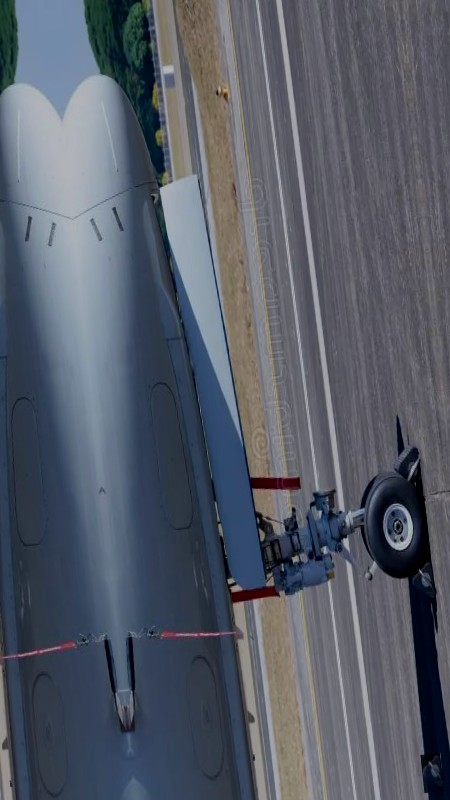chock: (390, 439, 424, 489), (410, 560, 437, 606), (420, 753, 445, 793)
wheel: (353, 464, 434, 584), (354, 474, 390, 565)
